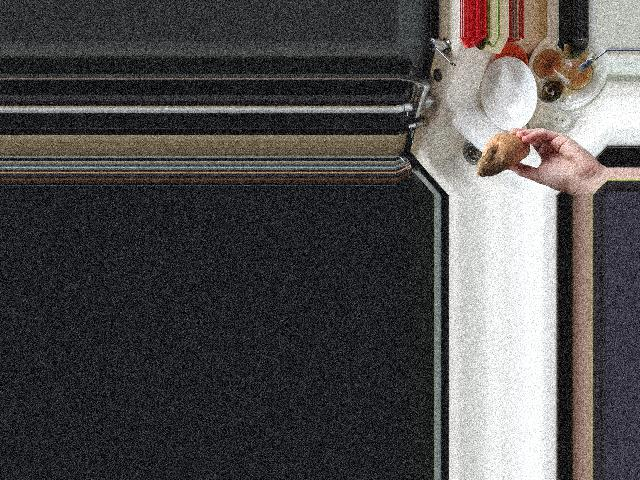sweet_potato: (476, 131, 529, 181)
